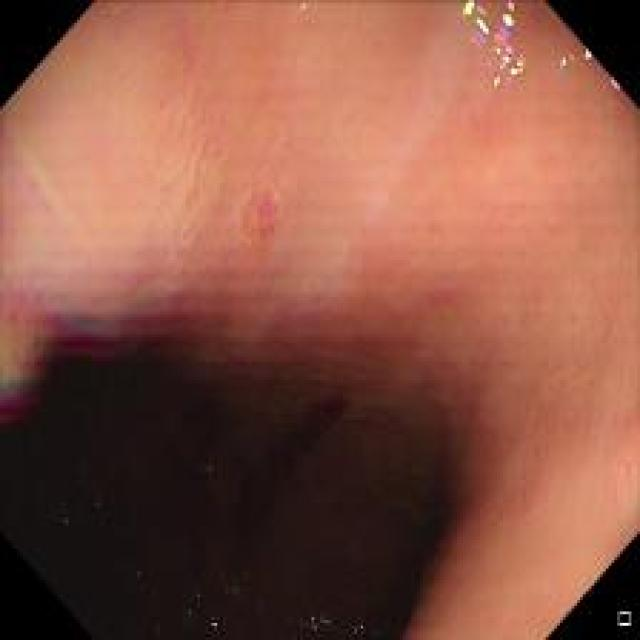blur: (46, 24, 579, 328)
color misalignment: (12, 121, 91, 268), (460, 2, 531, 91), (554, 42, 619, 96), (1, 372, 41, 422), (296, 610, 334, 630), (199, 455, 214, 474), (55, 508, 70, 526), (89, 489, 104, 506), (209, 612, 219, 632), (354, 619, 366, 634), (184, 605, 195, 621)
contrast: (9, 330, 471, 631)
